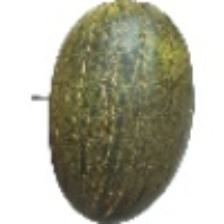honeydew: (39, 42, 180, 192)
